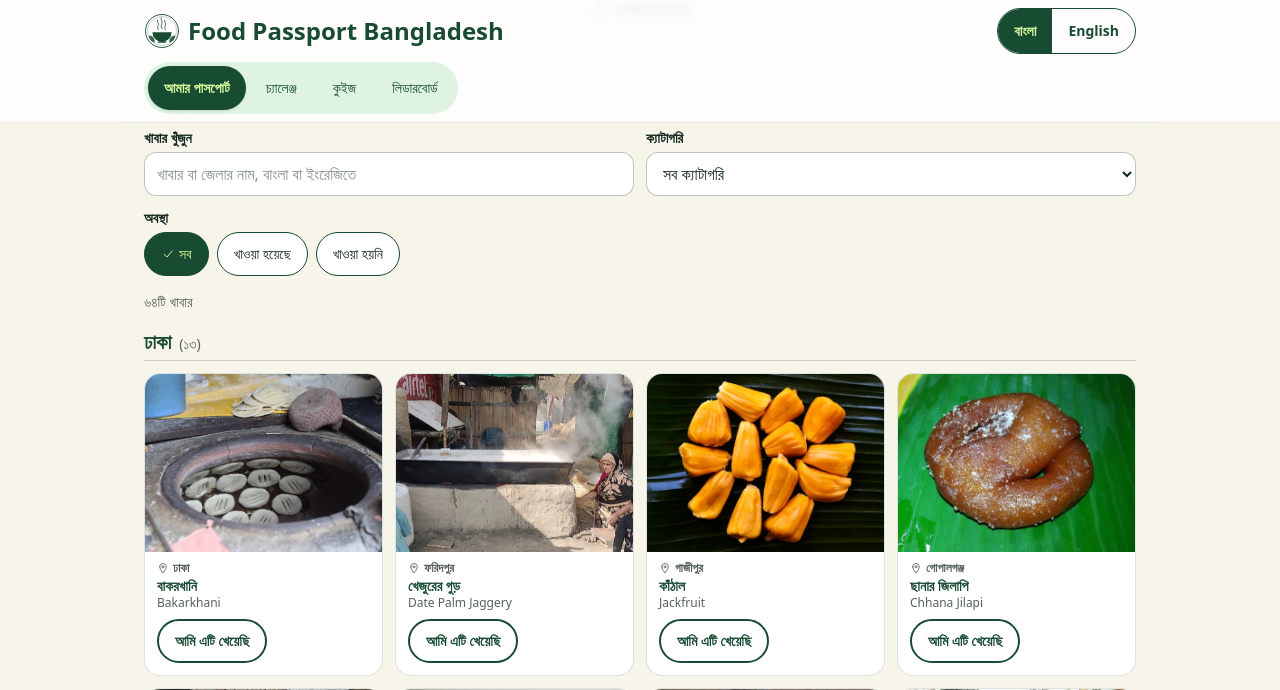
Scenario: category filter
(page scrolled)
Select "ভাত ও বিরিয়ানি" in the dropdown labelled "ক্যাটাগরি": (891, 174) [646,152,1136,196]
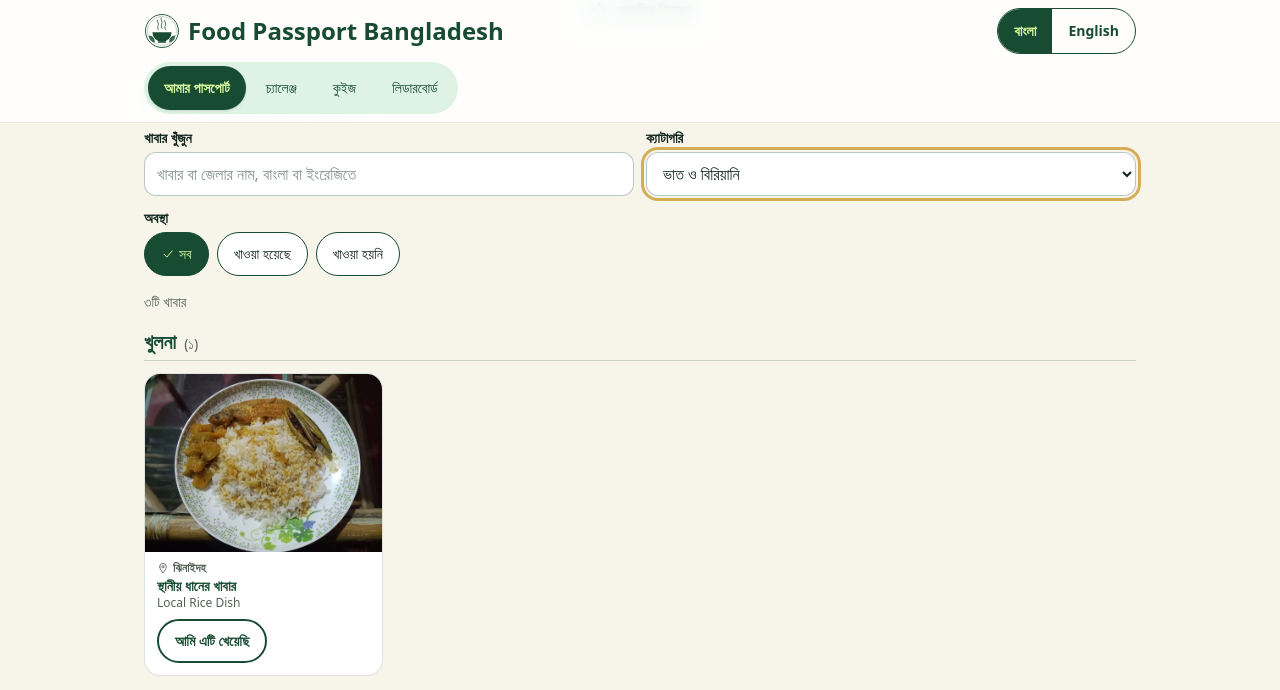
Now the text "৩টি খাবার" is shown, box [144,292,186,311]
